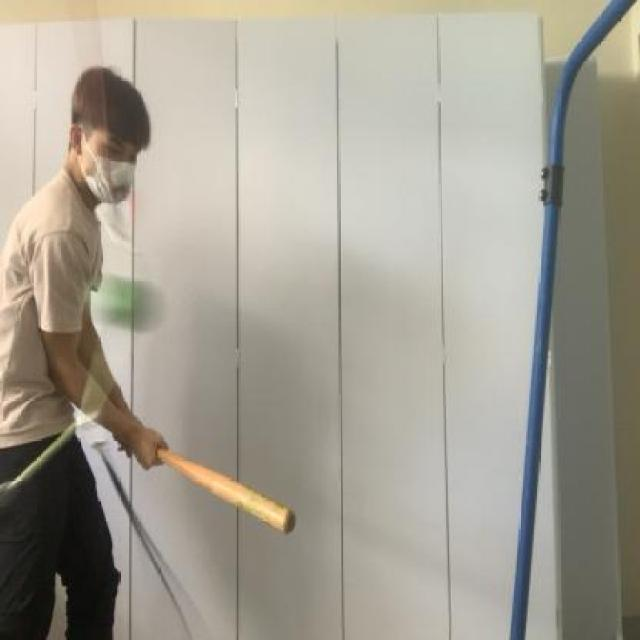baseball: (70, 244, 176, 344)
